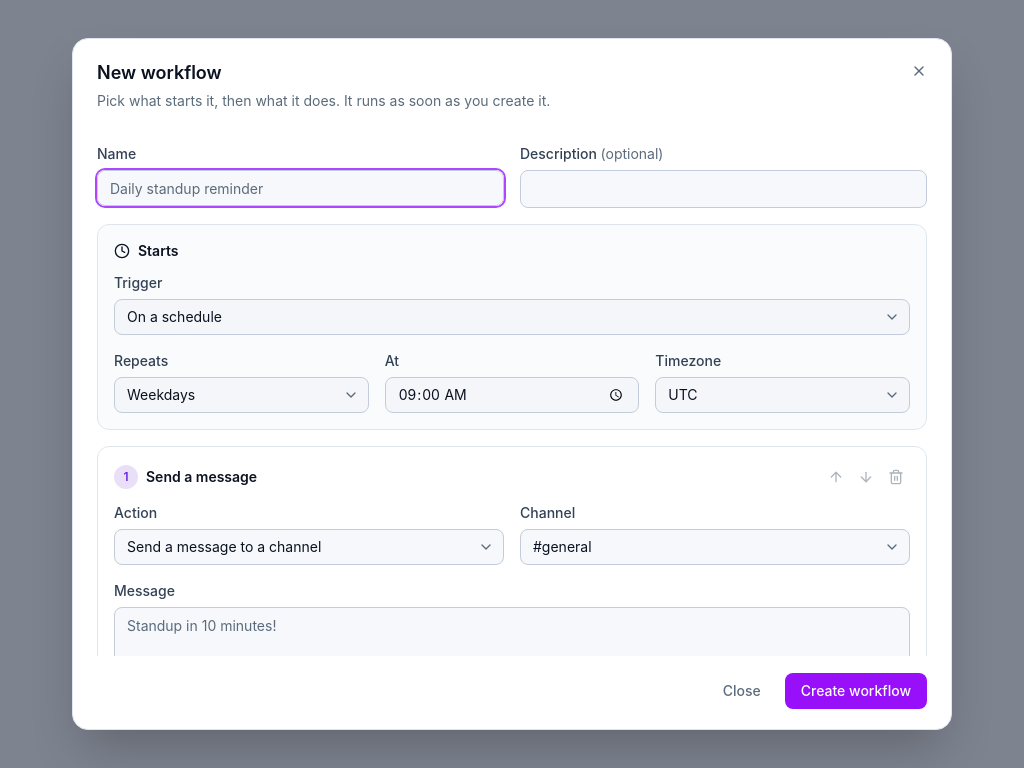
WorkflowEditor › switches a step to a DM to someone other than the builder
Select "Send a DM to a person" in the dropdown with test id "workflow-step-type" at (309, 547), box [114,529,504,565]
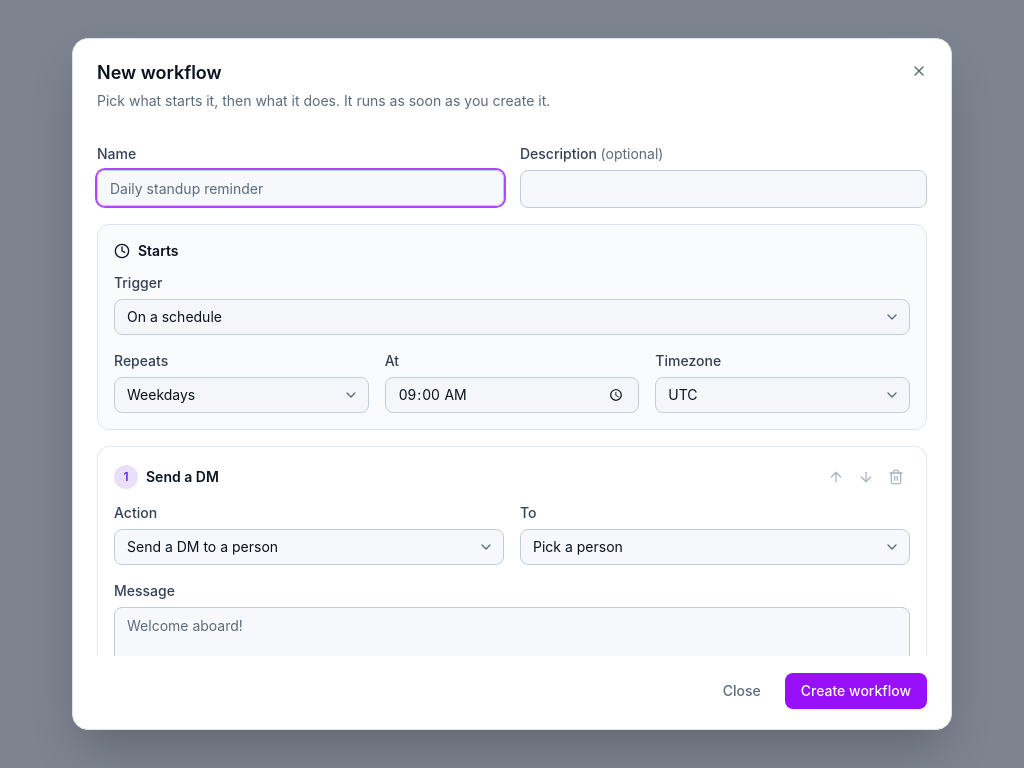
Result: the heading with test id "workflow-step-title" reads "Send a DM" at [146,468,219,485]
